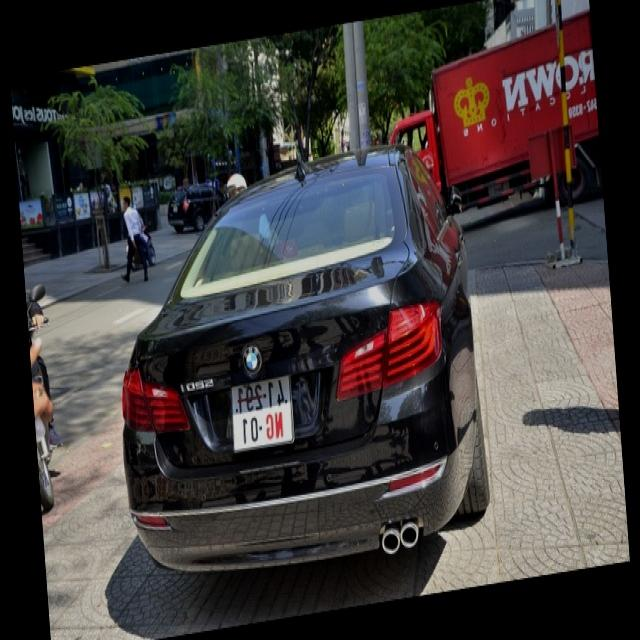bien_ngoai_giao: (231, 376, 296, 454)
